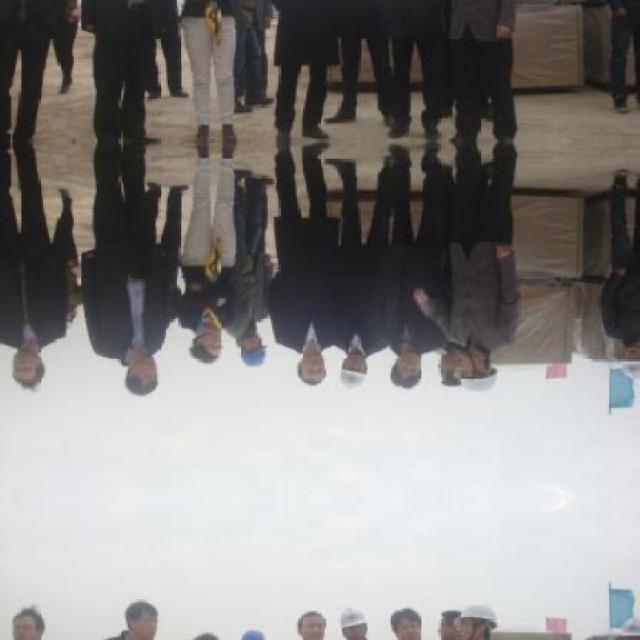con casco: (435, 334, 502, 407), (199, 329, 280, 374)
sin casco: (258, 323, 342, 388), (181, 298, 244, 378), (6, 336, 74, 406), (355, 335, 427, 399), (110, 353, 181, 397)
